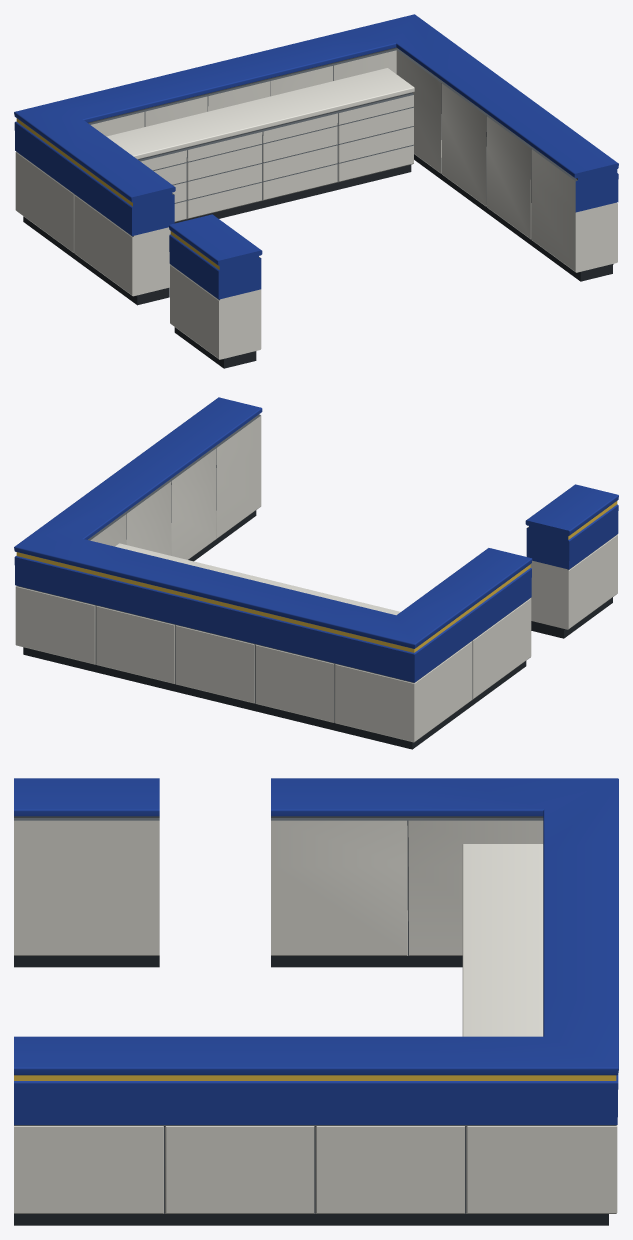
File: checkout-counter-usquare-laminate-2010.glb
The picture shows the model from 3 angles, top to bottom: view 1: azimuth 30°, elevation 25°; view 2: azimuth 150°, elevation 25°; view 3: azimuth 270°, elevation 25°; orthographic projection. The views are drawn at different scales.
Visible parts, largest first — view 1: usquare-surround-0.002, usquare-work-cabinet.002, usquare-surround-1.002; view 2: usquare-surround-0.002, usquare-surround-1.002, usquare-work-cabinet.002; view 3: usquare-surround-0.002, usquare-surround-1.002, usquare-work-cabinet.002.
Boxes of the visible parts, <box> form: usquare-surround-0.002: <box>14,14,618,305</box>; usquare-work-cabinet.002: <box>106,68,414,223</box>; usquare-surround-1.002: <box>169,214,262,368</box>; usquare-surround-0.002: <box>14,397,532,749</box>; usquare-surround-1.002: <box>525,484,618,638</box>; usquare-work-cabinet.002: <box>115,543,400,615</box>; usquare-surround-0.002: <box>14,778,618,1225</box>; usquare-surround-1.002: <box>14,778,159,967</box>; usquare-work-cabinet.002: <box>462,844,543,1036</box>.
Size of the model in its own units: 13.6 by 3.54 by 11.99.
